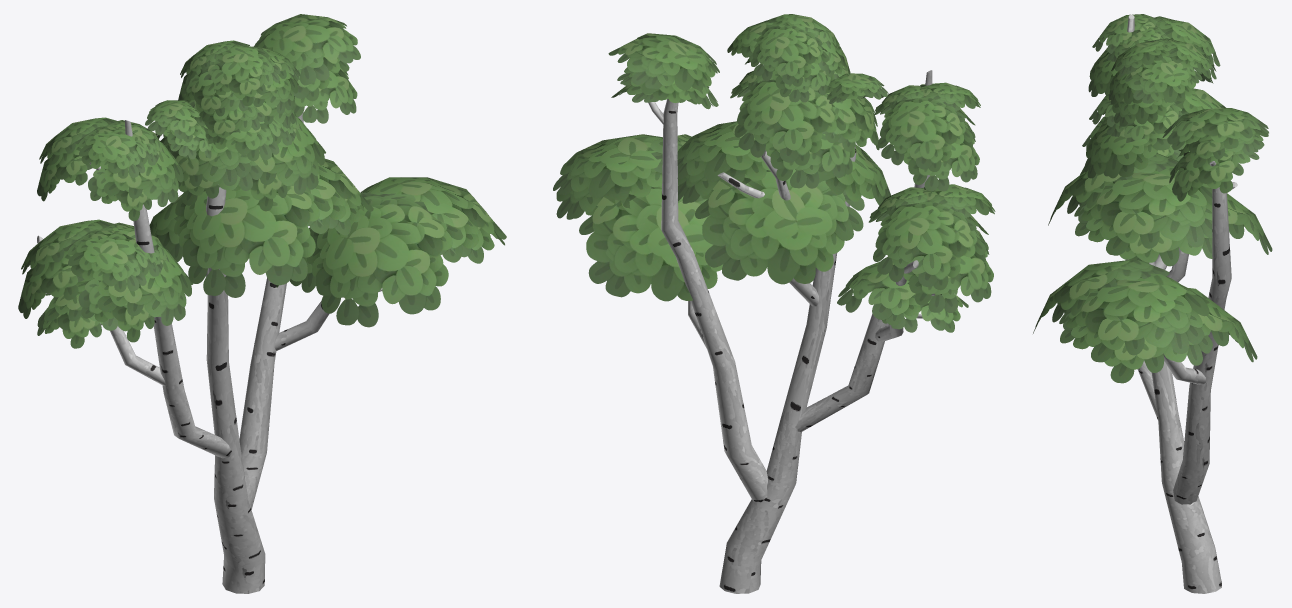
File: birch_3.glb
3 views of the same model, side by side, from view 1: azimuth 30°, elevation 25°; view 2: azimuth 150°, elevation 25°; view 3: azimuth 270°, elevation 25° (orthographic). The views are drawn at different scales.
Parts seen in each view (by area): view 1: Birch_3; view 2: Birch_3; view 3: Birch_3.
Boxes of the visible parts, x1,y1,x2,y2 form: Birch_3: (18,14,506,593); Birch_3: (553,14,995,593); Birch_3: (1033,14,1272,593).
Bounding box in the file's own units: 8.76 × 10.3 × 4.35.
Materials: 2 (2 with a texture image).
